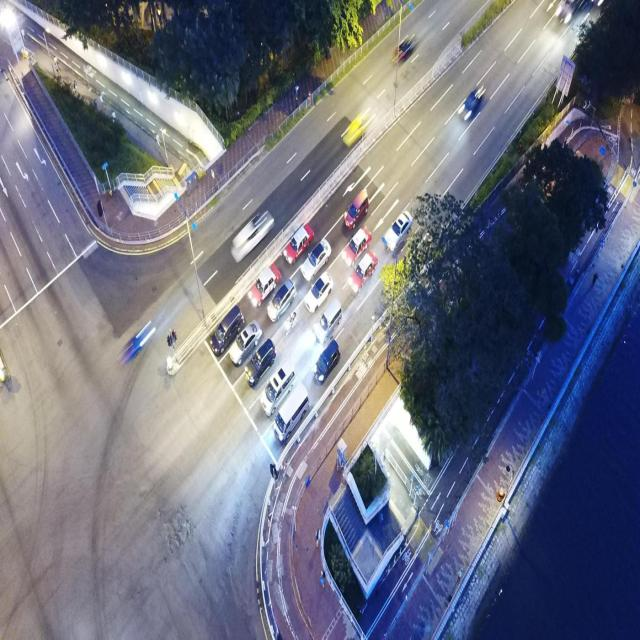car: (381, 209, 414, 253), (458, 84, 486, 121), (392, 33, 416, 64)
